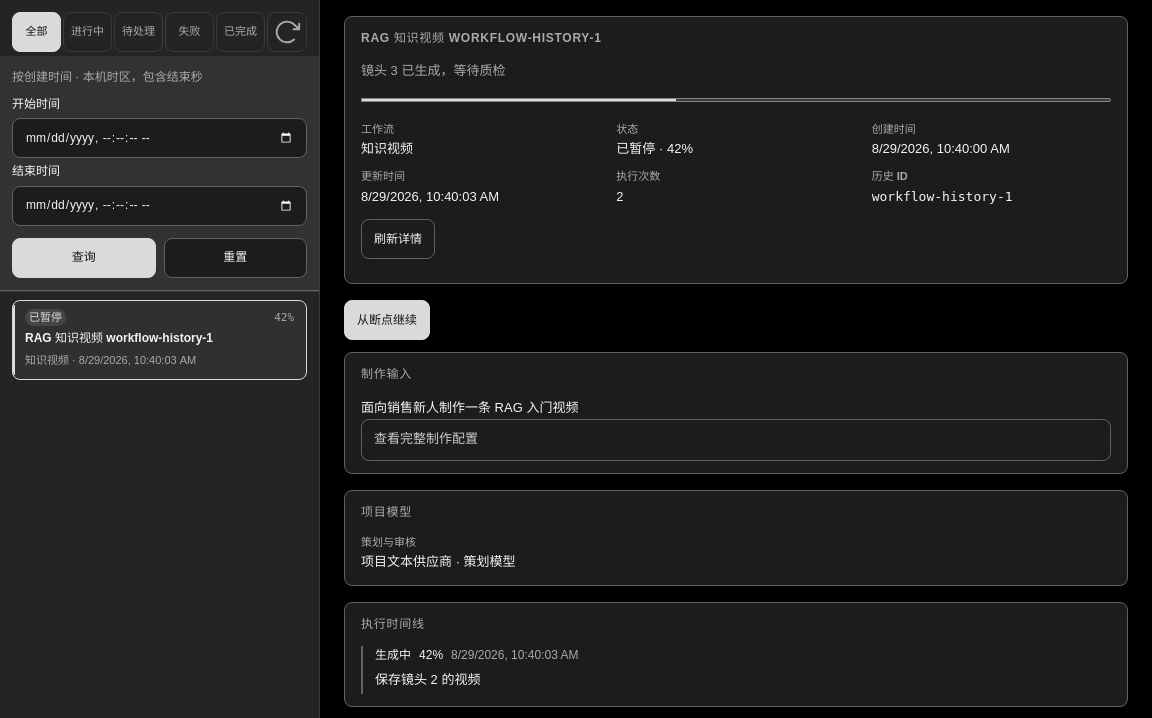
it: WorkflowHistoryPanel › resumes paused with an IME-safe decision when required
The image size is (1152, 718).
Click the button "从断点继续" at (387, 320), box [344, 300, 430, 340]
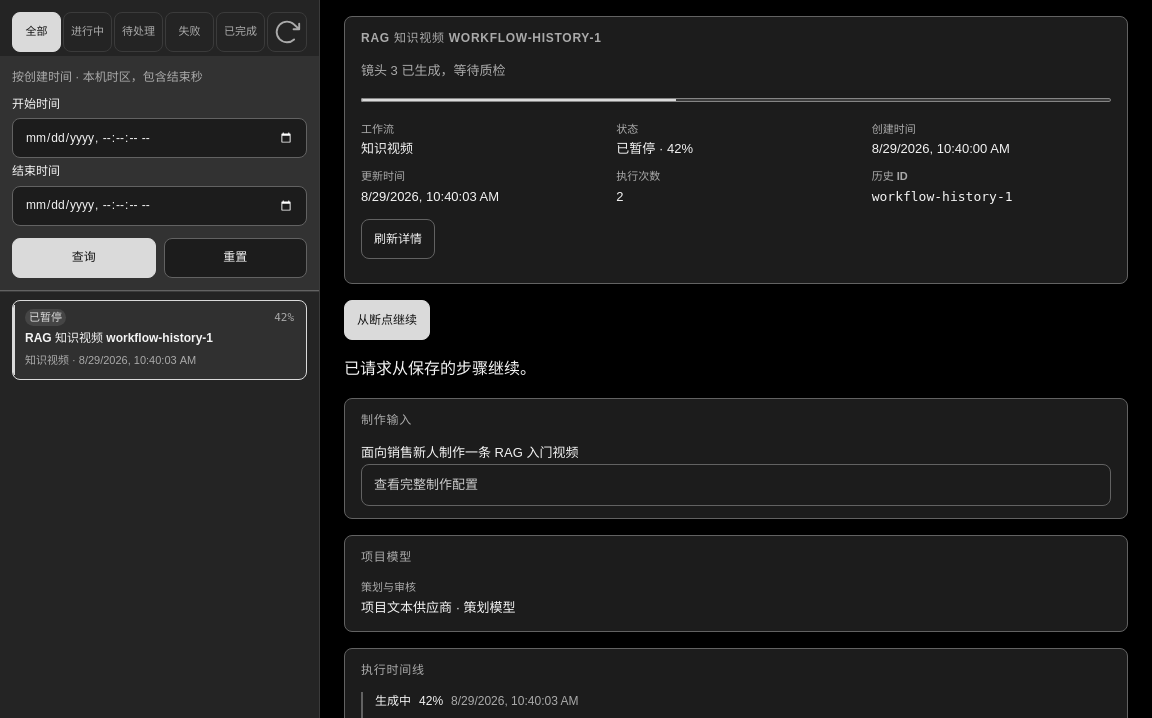
Check: the message reads "已请求从保存的步骤继续。", box [344, 360, 536, 377]
